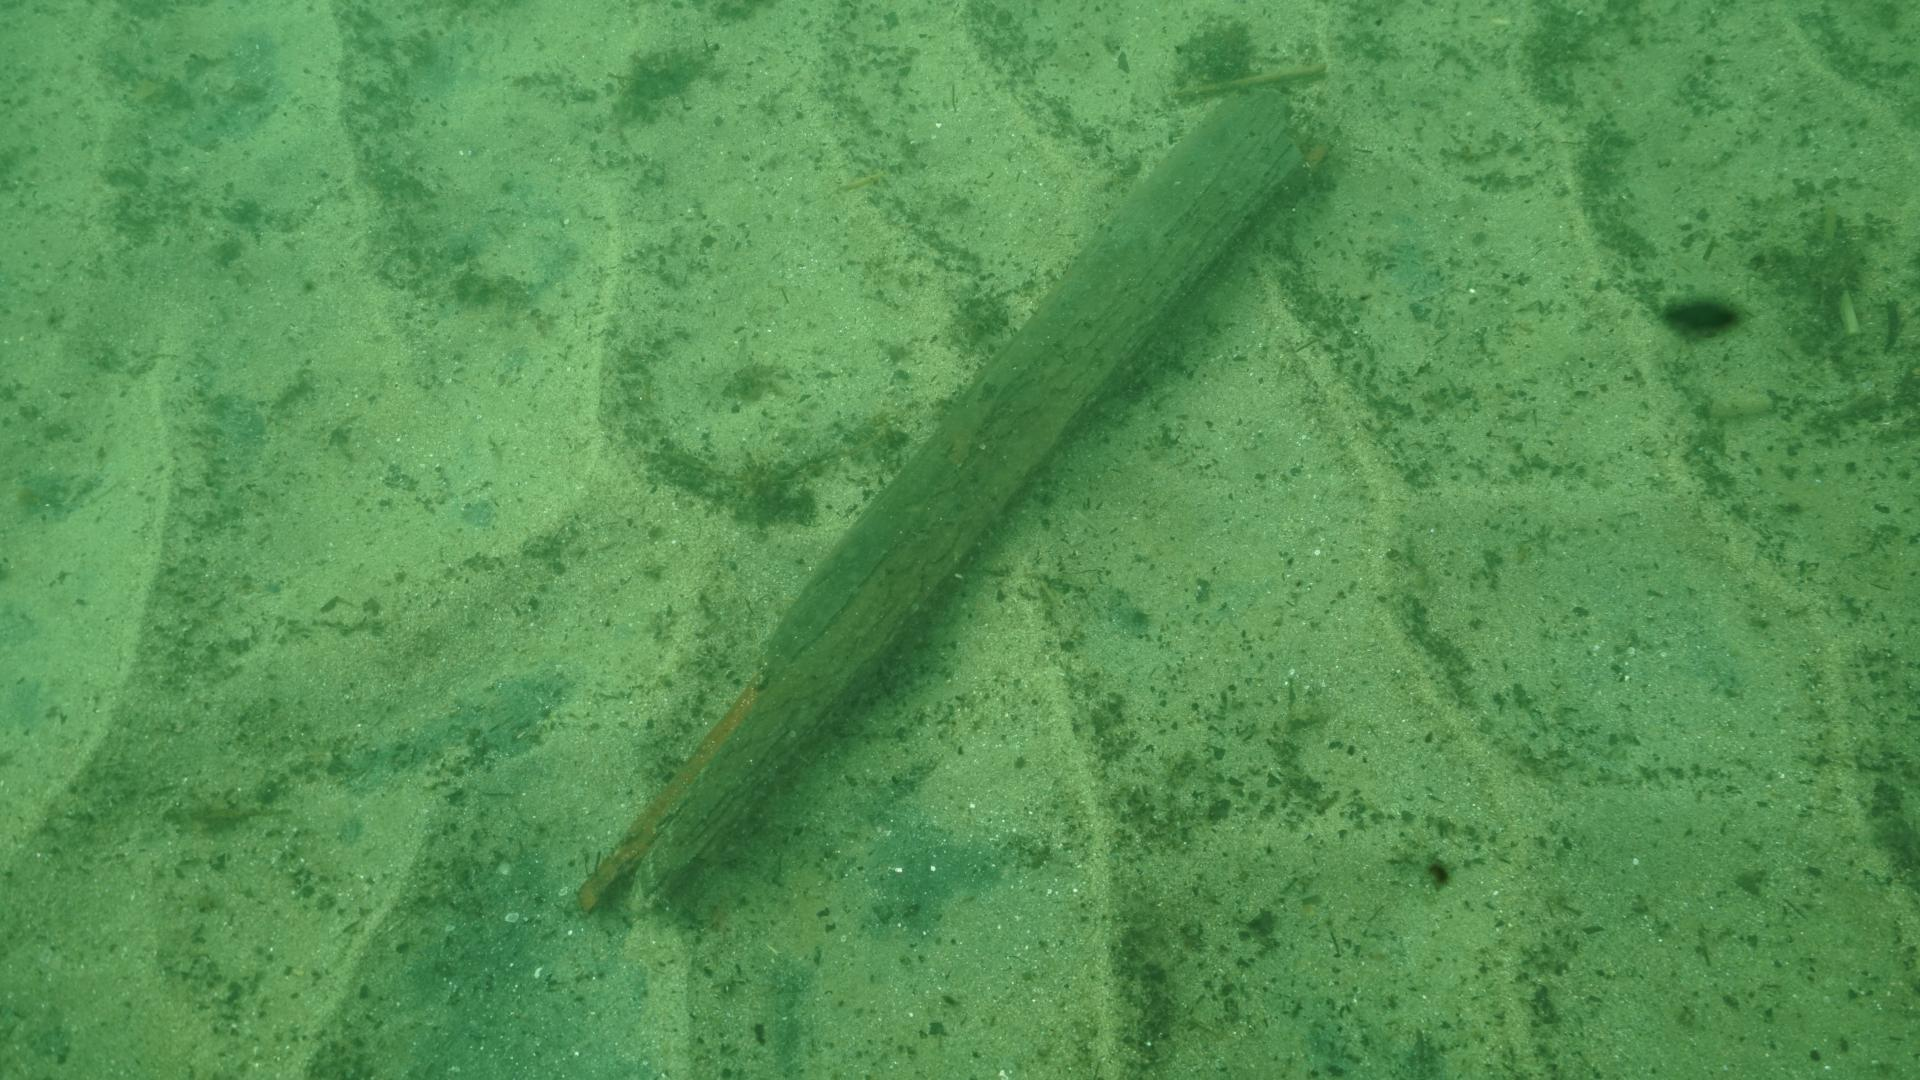wood: (553, 76, 1352, 924)
